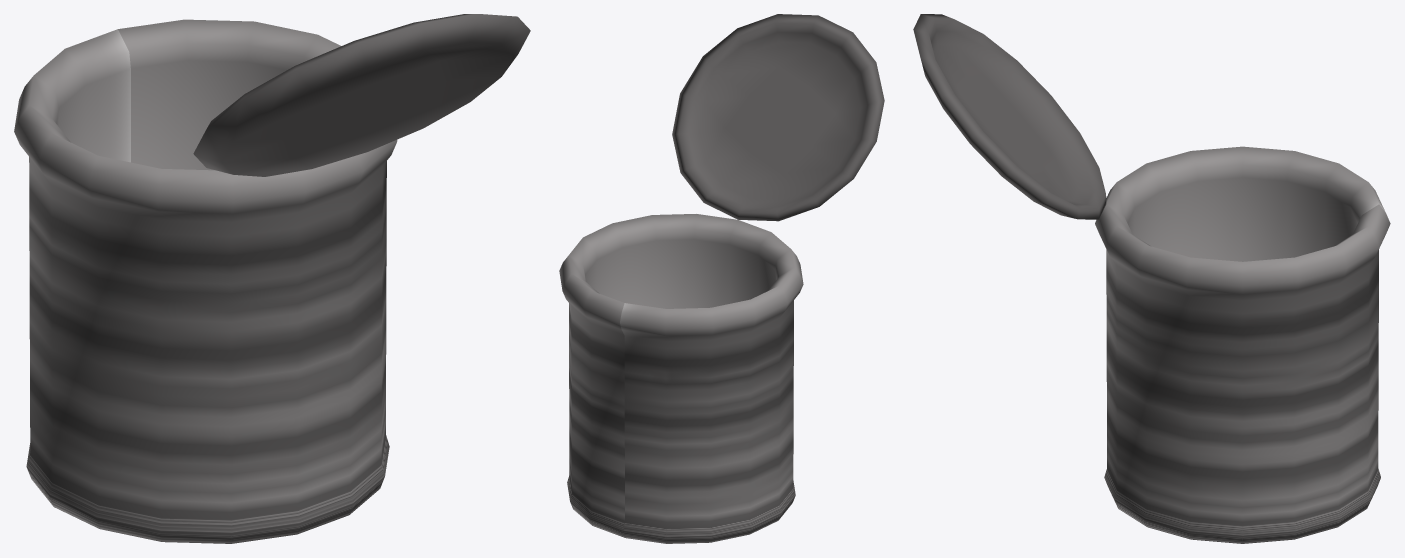
Rendered from Lata.fbx.
The picture shows the model from 3 angles, left to right: view 1: azimuth 30°, elevation 25°; view 2: azimuth 150°, elevation 25°; view 3: azimuth 270°, elevation 25°; orthographic projection. The views are drawn at different scales.
Parts seen in each view (by area): view 1: Lata; view 2: Lata; view 3: Lata.
Part boxes in pixels (bbox=[...]): Lata: bbox=[14, 14, 530, 543]; Lata: bbox=[559, 14, 884, 543]; Lata: bbox=[913, 14, 1390, 543].
Bounding box in the file's own units: 0.2276 × 0.3886 × 0.3672.
